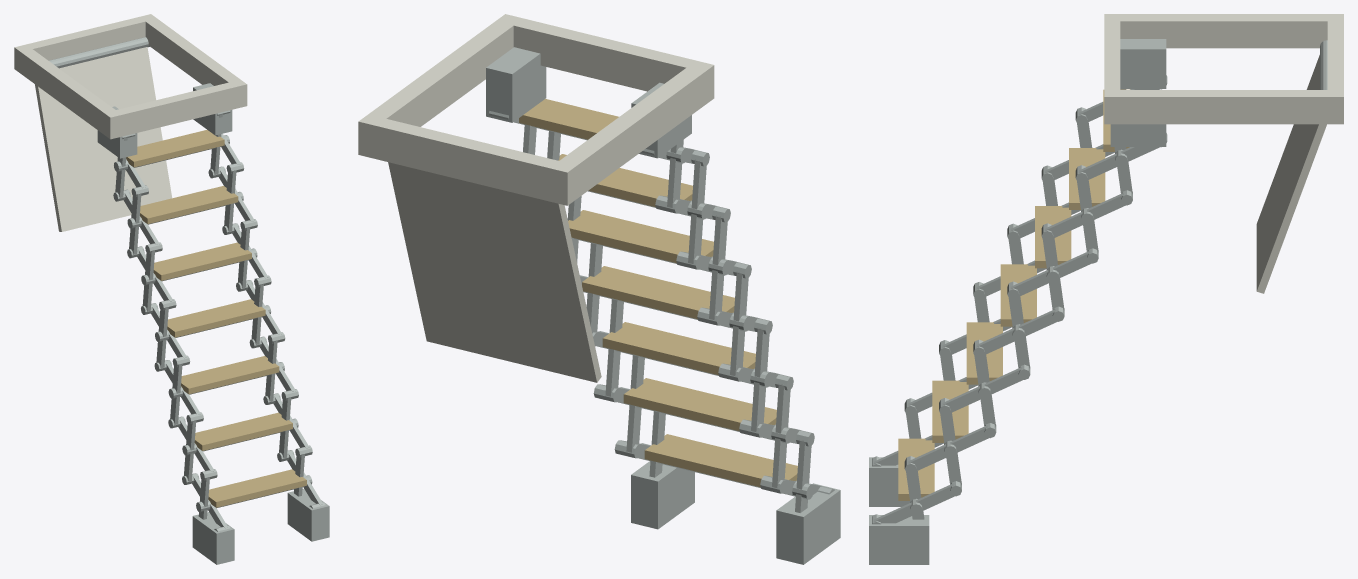
The picture shows the model from 3 angles, left to right: view 1: azimuth 30°, elevation 25°; view 2: azimuth 150°, elevation 25°; view 3: azimuth 270°, elevation 25°; orthographic projection. The views are drawn at different scales.
Visible parts, largest first — view 1: WholeLoweredHatch, WholeOpenCeilingCurb, WholeHorizontalTread_5, WholeHorizontalTread_0, WholeHorizontalTread_2, WholeHorizontalTread_3, WholeHorizontalTread_4, WholeHorizontalTread_1, WholeHorizontalTread_6, WholeGroundShoe_1, WholeGroundShoe_-1, WholeHatchPivot (+12 smaller); view 2: WholeLoweredHatch, WholeOpenCeilingCurb, WholeHorizontalTread_1, WholeHorizontalTread_0, WholeHorizontalTread_2, WholeHorizontalTread_3, WholeGroundShoe_-1, WholeHorizontalTread_4, WholeTopHanger_1, WholeGroundShoe_1, WholeHorizontalTread_6, WholeHorizontalTread_5 (+12 smaller); view 3: WholeOpenCeilingCurb, WholeLoweredHatch, WholeGroundShoe_1, WholeTopHanger_-1, WholeHorizontalTread_3, WholeHorizontalTread_2, WholeHorizontalTread_0, WholeHorizontalTread_1, WholeHorizontalTread_4, WholeHorizontalTread_5, WholeGroundShoe_-1, WholeTopHanger_1 (+12 smaller).
Part boxes in pixels (x1,y1,x2,y2): WholeLoweredHatch: [35, 47, 172, 231]; WholeOpenCeilingCurb: [14, 14, 247, 139]; WholeHorizontalTread_5: [140, 186, 238, 224]; WholeHorizontalTread_0: [208, 469, 306, 507]; WholeHorizontalTread_2: [181, 356, 279, 394]; WholeHorizontalTread_3: [167, 299, 265, 337]; WholeHorizontalTread_4: [153, 242, 251, 280]; WholeHorizontalTread_1: [194, 412, 292, 450]; WholeHorizontalTread_6: [126, 130, 224, 167]; WholeGroundShoe_1: [287, 489, 329, 541]; WholeGroundShoe_-1: [192, 512, 234, 564]; WholeHatchPivot: [49, 37, 149, 68]; WholeLoweredHatch: [388, 162, 601, 382]; WholeOpenCeilingCurb: [358, 14, 714, 205]; WholeHorizontalTread_1: [623, 378, 776, 431]; WholeHorizontalTread_0: [644, 434, 797, 487]; WholeHorizontalTread_2: [602, 322, 755, 375]; WholeHorizontalTread_3: [582, 266, 734, 319]; WholeGroundShoe_-1: [776, 483, 840, 564]; WholeHorizontalTread_4: [568, 210, 713, 263]; WholeTopHanger_1: [486, 47, 546, 122]; WholeGroundShoe_1: [631, 461, 694, 529]; WholeHorizontalTread_6: [519, 99, 618, 139]; WholeHorizontalTread_5: [558, 154, 692, 206]; WholeOpenCeilingCurb: [1104, 14, 1343, 124]; WholeLoweredHatch: [1256, 55, 1326, 293]; WholeGroundShoe_1: [869, 515, 929, 564]; WholeTopHanger_-1: [1120, 39, 1166, 88]; WholeHorizontalTread_3: [1000, 264, 1036, 326]; WholeHorizontalTread_2: [966, 322, 1002, 384]; WholeHorizontalTread_0: [898, 438, 934, 500]; WholeHorizontalTread_1: [932, 380, 968, 442]; WholeHorizontalTread_4: [1035, 206, 1071, 268]; WholeHorizontalTread_5: [1069, 148, 1105, 209]; WholeGroundShoe_-1: [869, 457, 909, 506]; WholeTopHanger_1: [1110, 124, 1166, 146].
Size of the model in its own units: 0.92 by 2.45 by 2.22.
